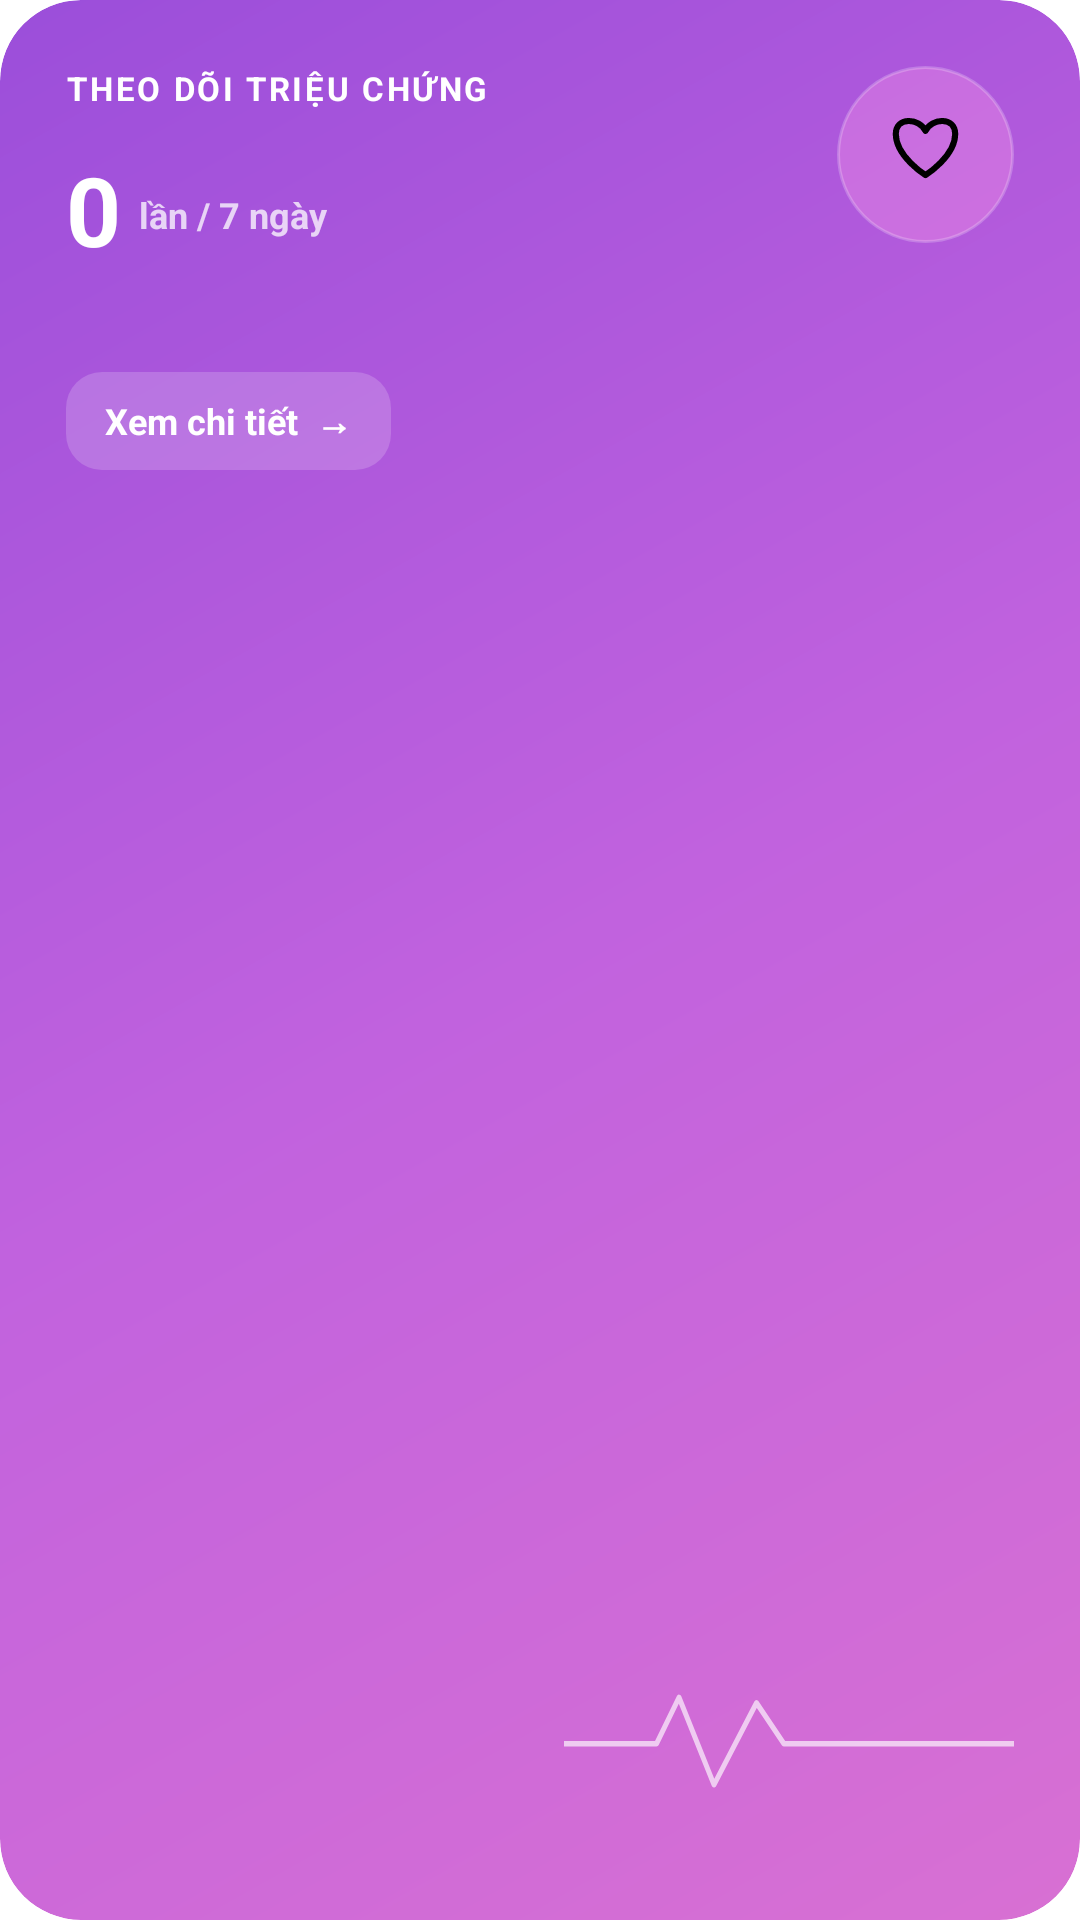

Icons on this 1080*1920 Android screen, each with its box as (x1, y1, x2, y2):
heart: (892, 118, 959, 179)
